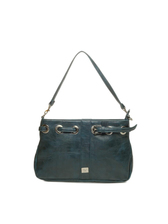bag: (25, 46, 145, 188)
